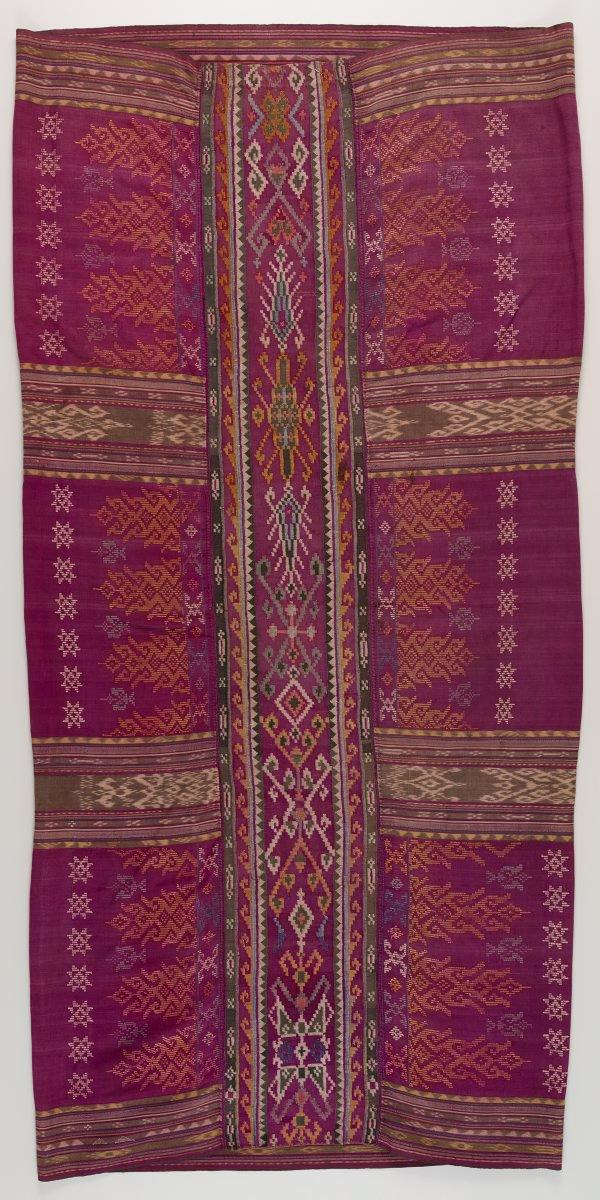malong: (5, 27, 600, 1200)
